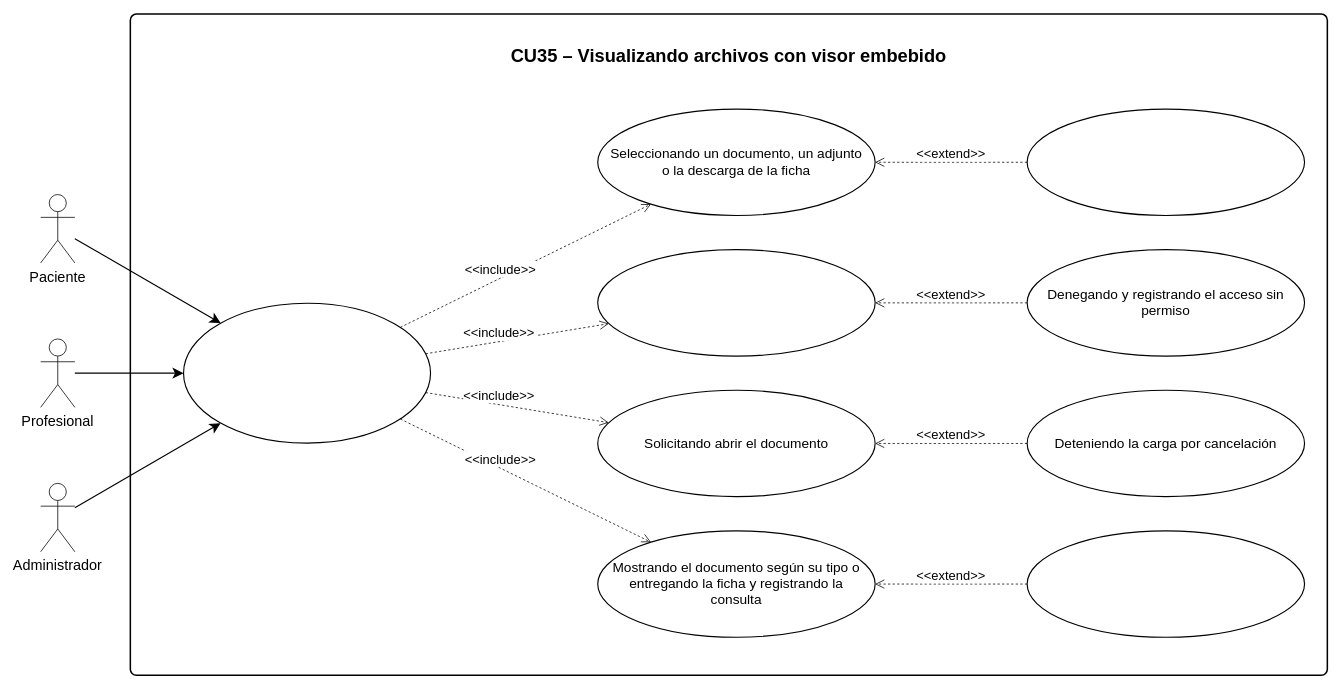
Some shapes in this 1341 by 689 pixel diagram are drawn without their labels. Here are the shapes that lost their labels. From the top down, the centre of each, then its label:
the point at 1165,162: Informando error de carga por archivo que no puede procesarse
the point at 736,302: Validando permisos de visualización
the point at 307,372: Visualizando archivos con visor embebido
the point at 1165,583: Informando error al mostrar el documento o al generar la ficha
